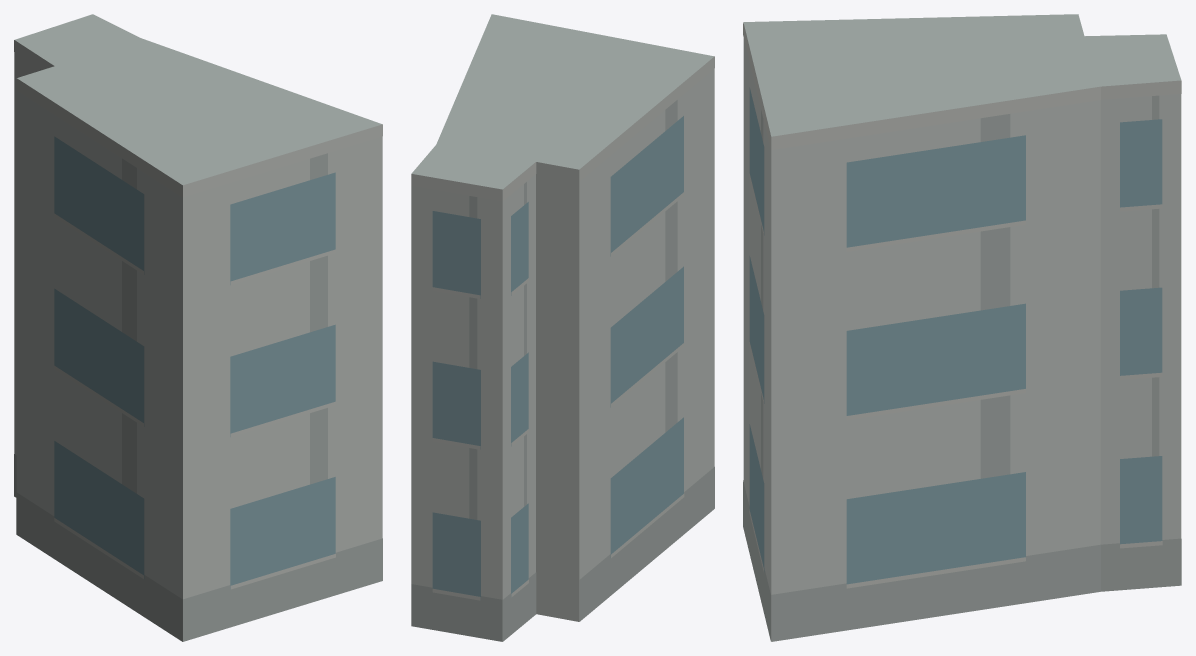
Rendered from residential-eadaead4-fcb9-42ab-b902-f8975dcc6afc.glb.
The picture shows the model from 3 angles, left to right: view 1: azimuth 30°, elevation 25°; view 2: azimuth 150°, elevation 25°; view 3: azimuth 270°, elevation 25°; orthographic projection. The views are drawn at different scales.
Visible parts, largest first — view 1: residential-eadaead4-fcb9-42ab-b902-f8975dcc6afc.tmp; view 2: residential-eadaead4-fcb9-42ab-b902-f8975dcc6afc.tmp; view 3: residential-eadaead4-fcb9-42ab-b902-f8975dcc6afc.tmp.
Boxes of the visible parts, x1,y1,x2,y2 form: residential-eadaead4-fcb9-42ab-b902-f8975dcc6afc.tmp: (14, 14, 382, 641); residential-eadaead4-fcb9-42ab-b902-f8975dcc6afc.tmp: (411, 14, 714, 641); residential-eadaead4-fcb9-42ab-b902-f8975dcc6afc.tmp: (743, 14, 1181, 641).
Size of the model in its own units: 4.78 by 9.15 by 7.2.
